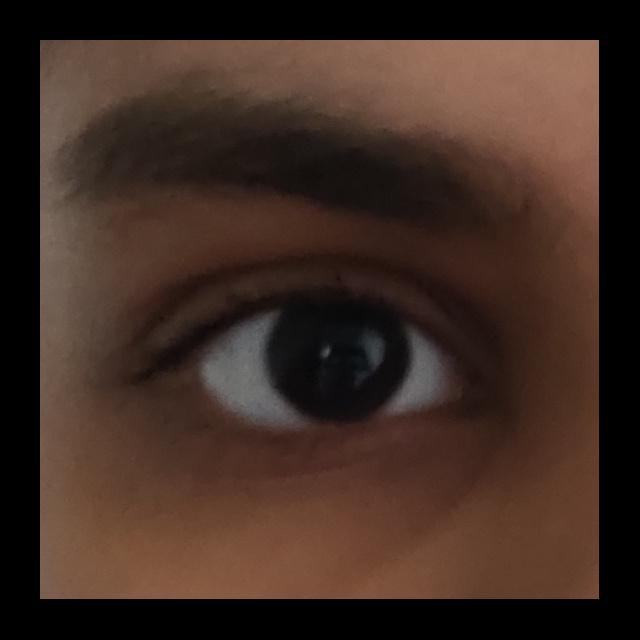eye: (194, 299, 467, 428)
iris: (264, 300, 413, 420)
